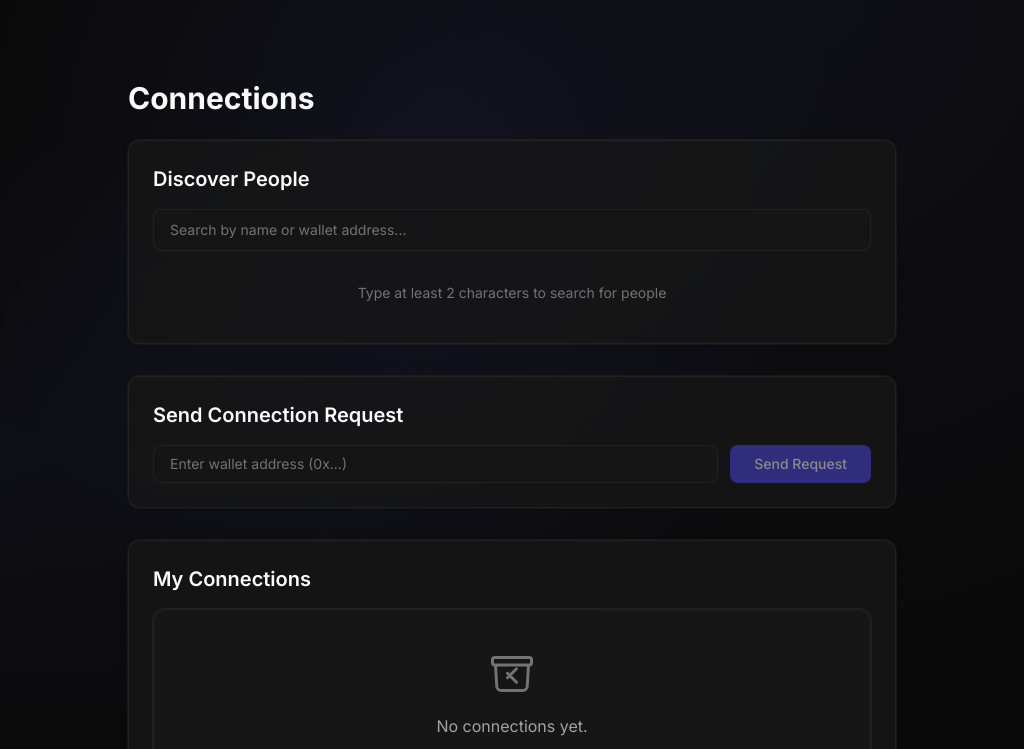
Test: ConnectionsPage › displays error when sending connection request fails
expect the text "No connections yet." is shown: met, box [436, 714, 588, 738]
In the field with placeholder "Enter wallet address (0x...)": (436, 464) [153, 445, 718, 483], type "0xexisting"
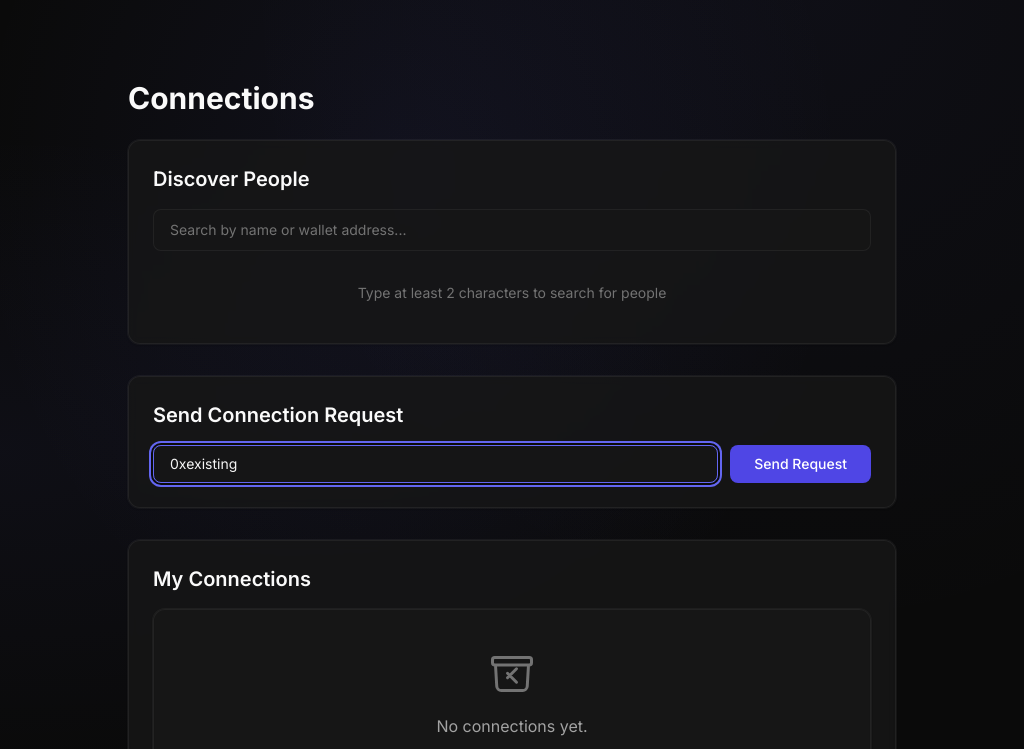
Click the button "Send Request": (801, 464) [730, 445, 871, 483]
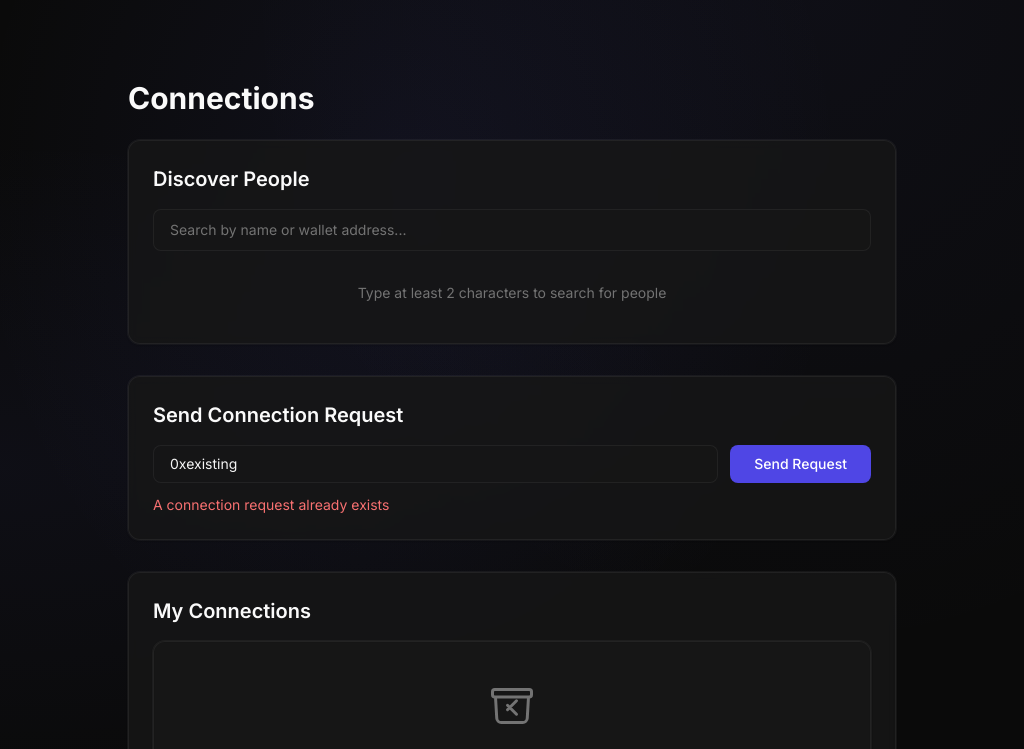
expect the text "A connection request already exists" is shown: met, box [153, 496, 389, 513]
